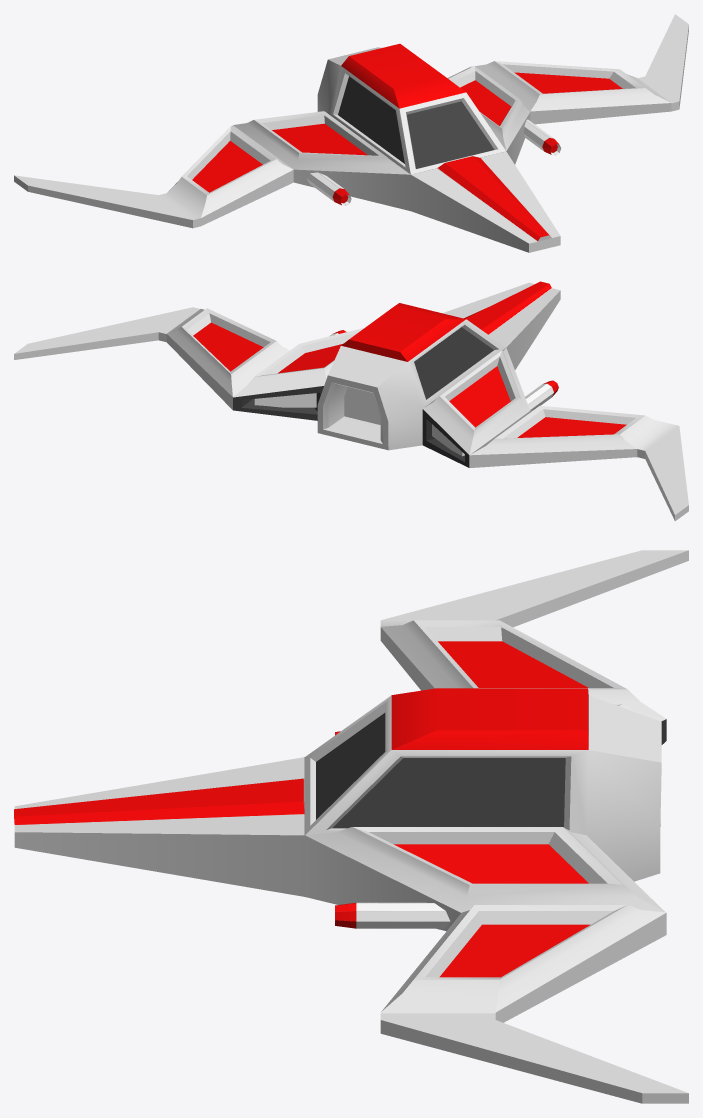
Rendered from Ship Model.fbx.
3 views of the same model, one above another, from view 1: azimuth 30°, elevation 25°; view 2: azimuth 150°, elevation 25°; view 3: azimuth 270°, elevation 25° (orthographic). The views are drawn at different scales.
Visible parts, largest first — view 1: pCube6; view 2: pCube6; view 3: pCube6.
Boxes of the visible parts, x1,y1,x2,y2 form: pCube6: [14, 14, 688, 252]; pCube6: [14, 281, 688, 521]; pCube6: [14, 550, 688, 1103].
Size of the model in its own units: 18.06 by 2.3 by 9.49.
